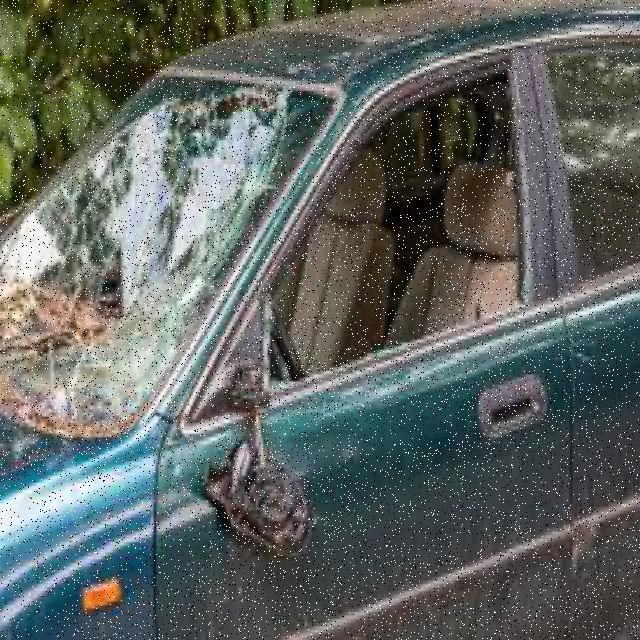Front-Windscreen-Damage: (0, 74, 342, 426)
Sidemirror-Damage: (200, 423, 316, 577)
